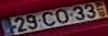2: (12, 16, 28, 33)
3: (83, 2, 96, 19), (71, 5, 85, 20)
9: (24, 14, 38, 30)
C: (40, 10, 56, 27)
O: (54, 8, 69, 24)
